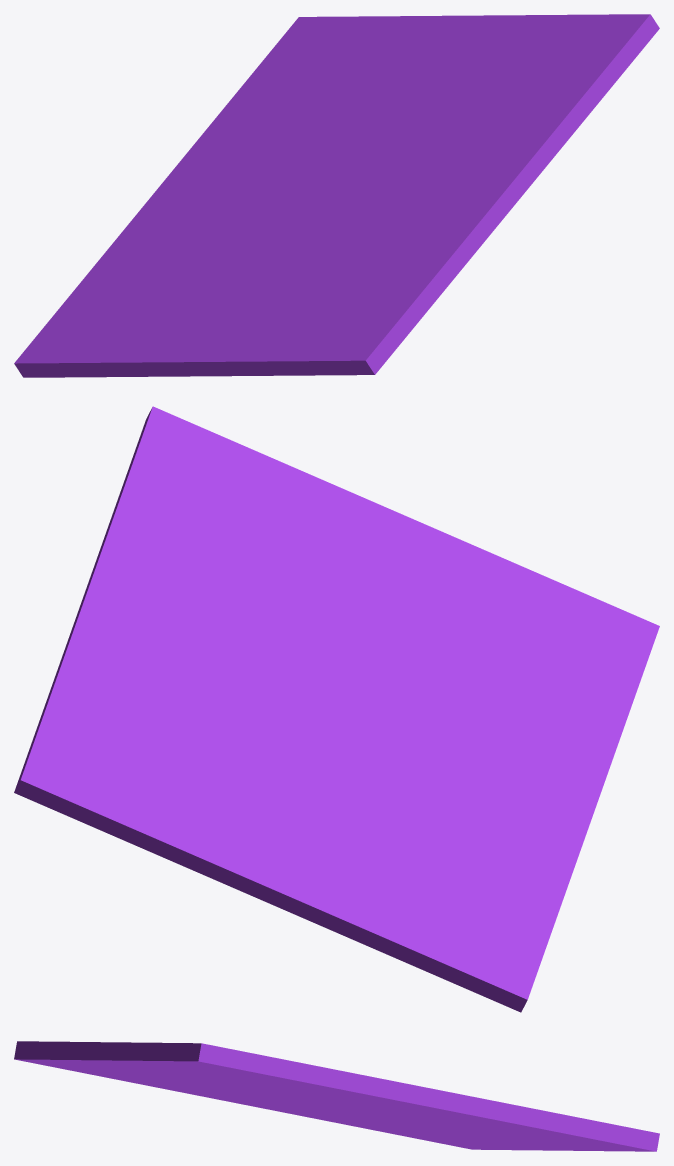
File: Platform_1.fbx
3 renders of one model, top to bottom at view 1: azimuth 30°, elevation 25°; view 2: azimuth 150°, elevation 25°; view 3: azimuth 270°, elevation 25°, orthographic. The views are drawn at different scales.
Parts seen in each view (by area): view 1: Platform_1; view 2: Platform_1; view 3: Platform_1.
Boxes of the visible parts, x1,y1,x2,y2 form: Platform_1: (14,14,659,377); Platform_1: (14,406,659,1012); Platform_1: (14,1041,659,1151).
Size of the model in its own units: 903 by 598 by 1044.
